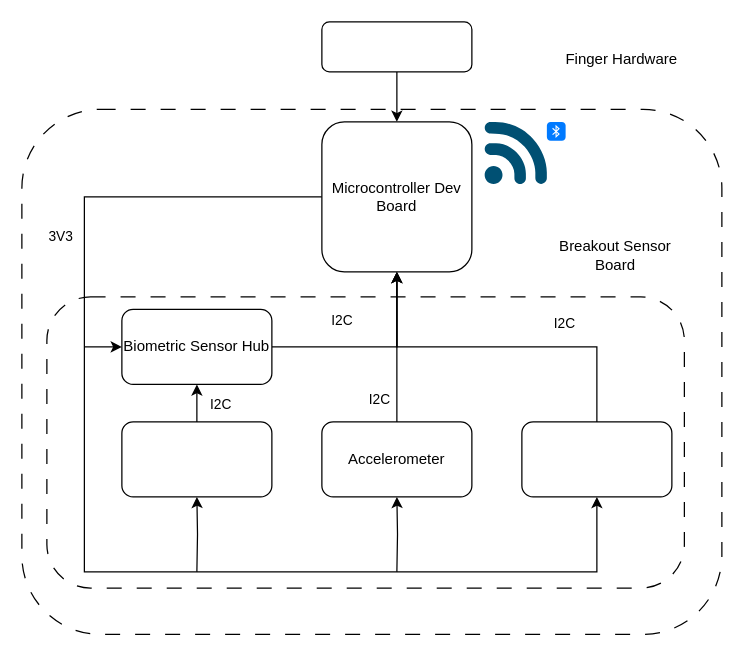
Some shapes in this 744 by 656 pixel diagram are drawn without their labels. The shapes that lost their labels are listed below. From the top down, each one's centre as x and y in pixels, then its label:
(x=396, y=46): PC Power
(x=196, y=459): Oximetry Sensor
(x=596, y=459): Thermometer
